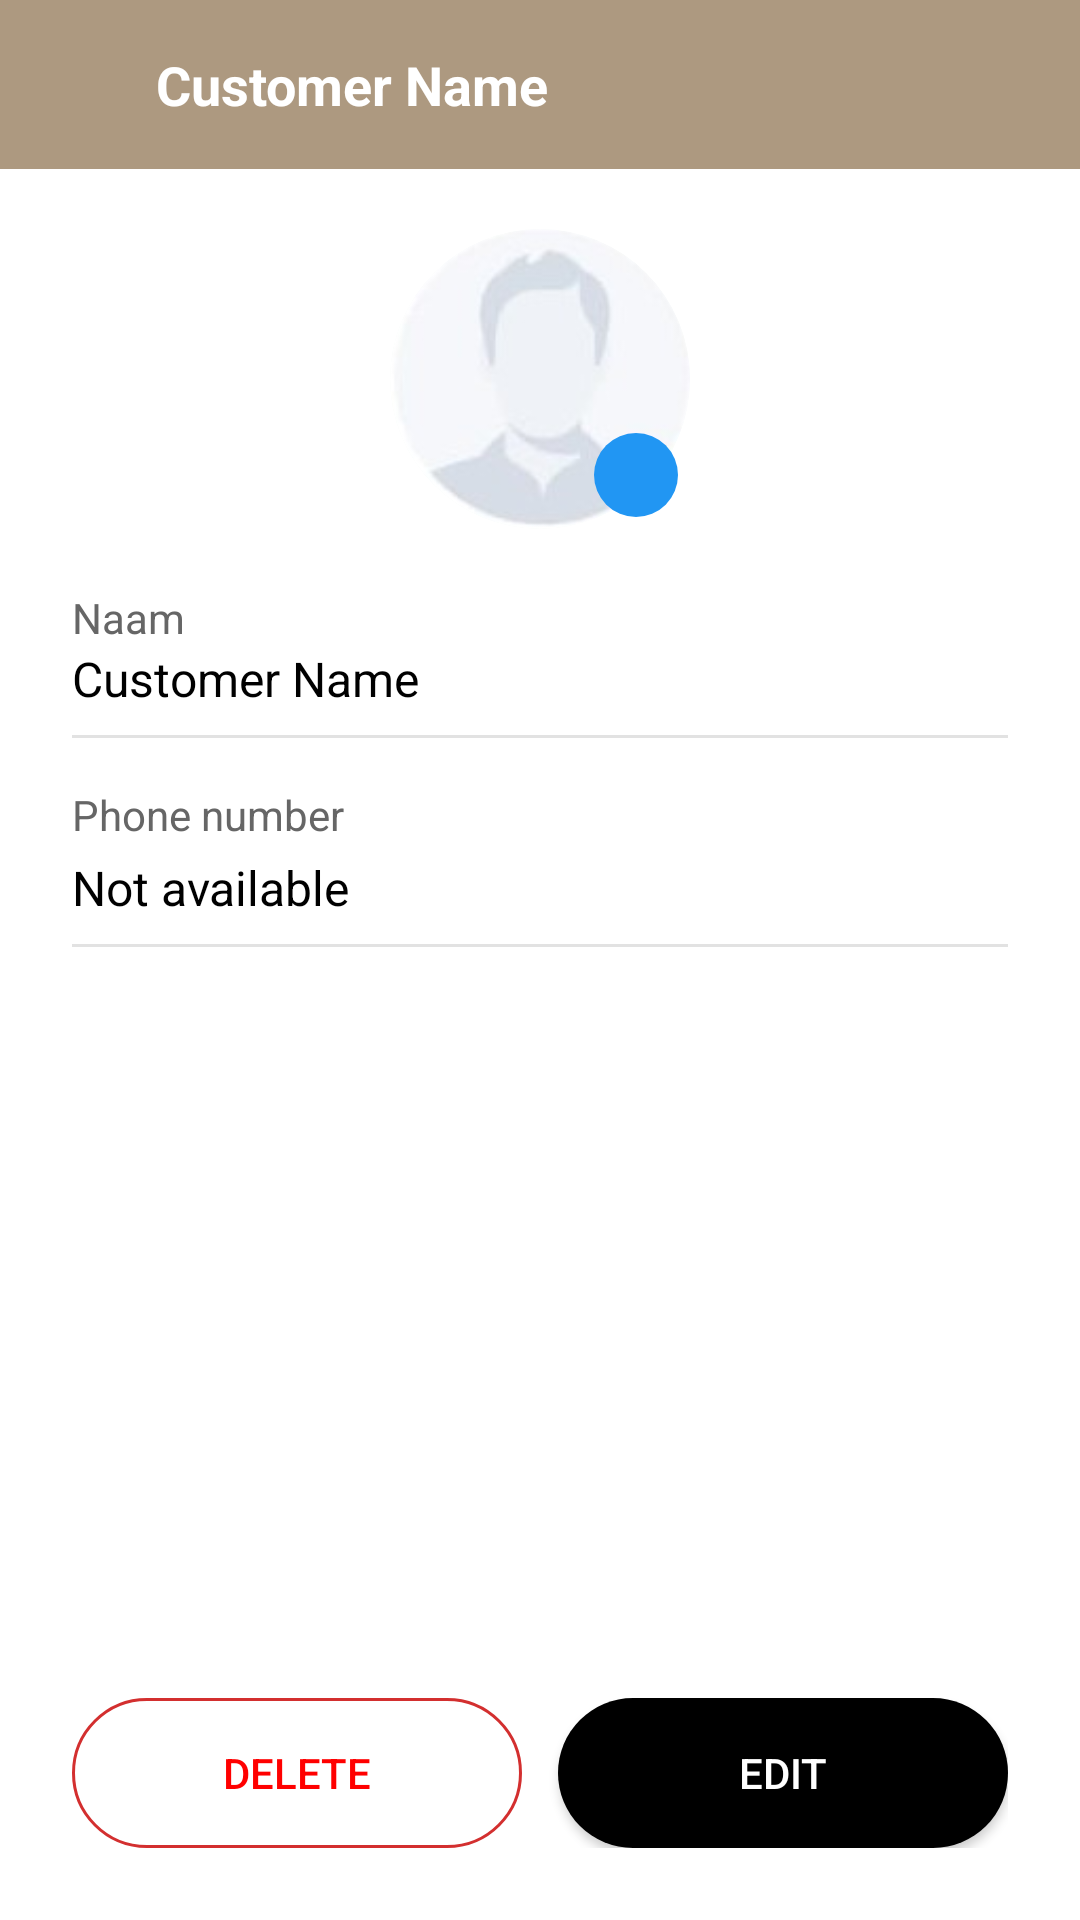

Where icons sit on this 1080×1920 app screen, as {"left": x1, "top": y1, "right": x2, "bottom": y2}:
Profile picture: {"left": 395, "top": 231, "right": 689, "bottom": 526}
